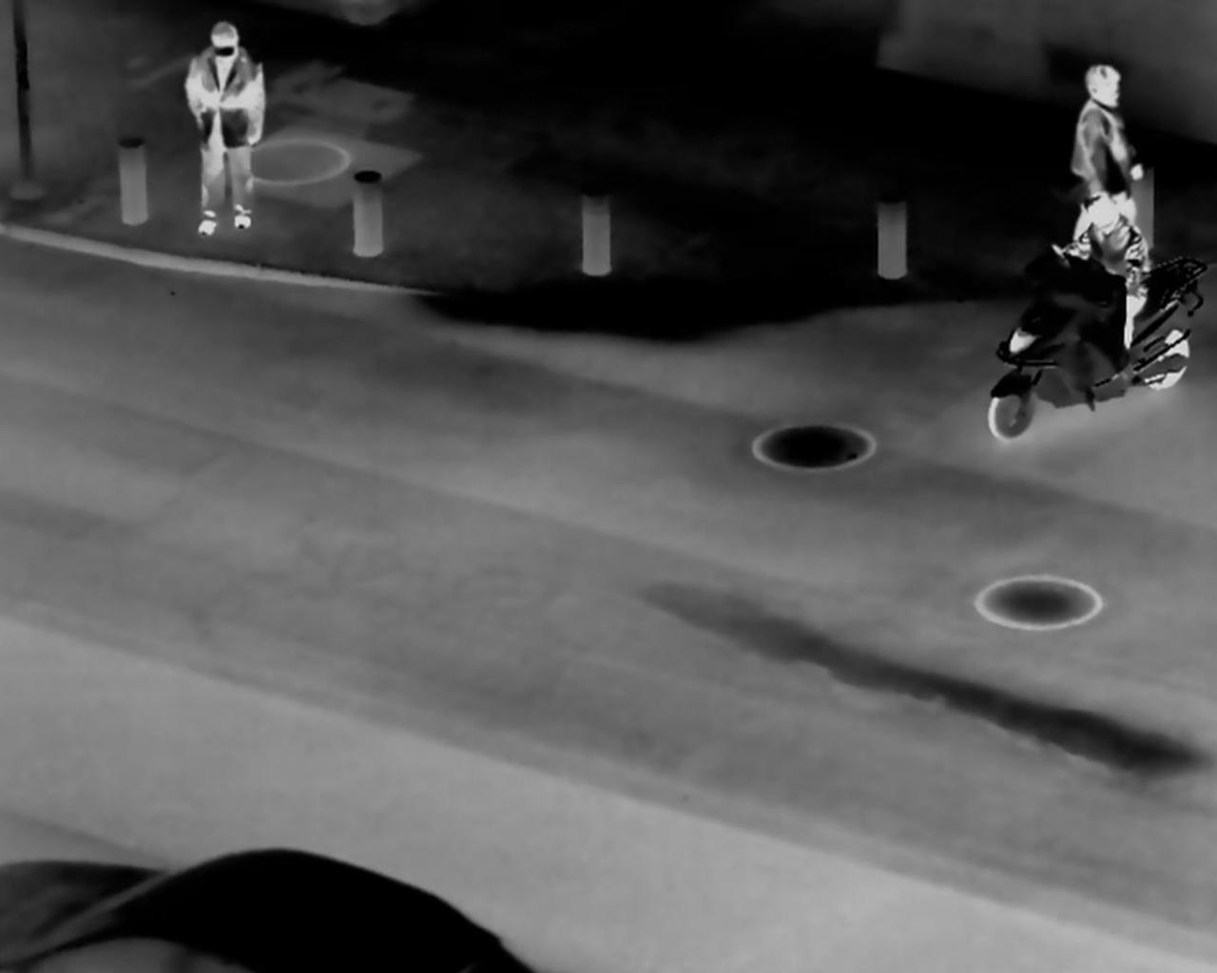person: (167, 16, 280, 238), (1059, 191, 1168, 335), (1071, 62, 1148, 210)
